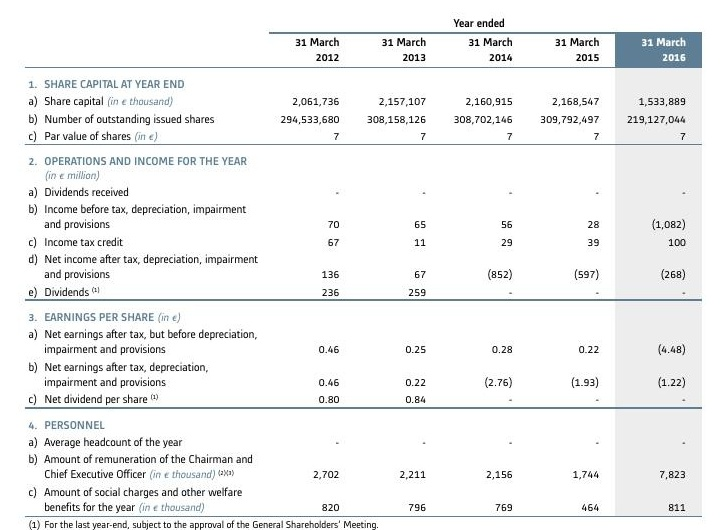table: (0, 0, 722, 530)
